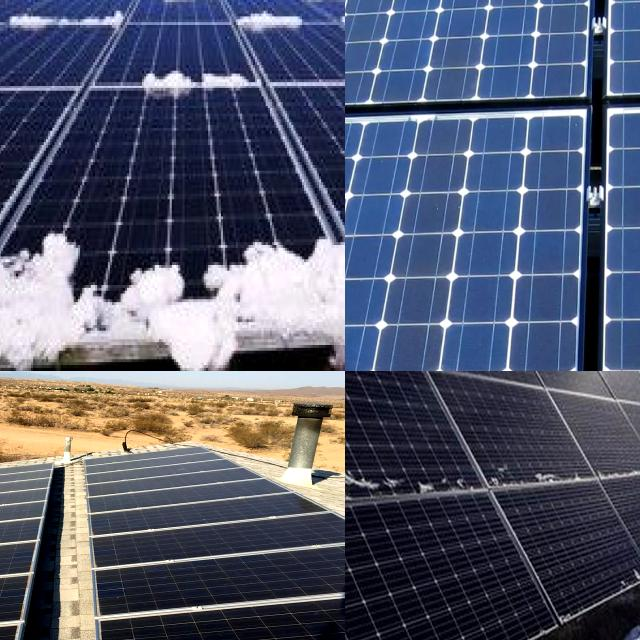crack: (345, 117, 581, 371)
dust: (149, 507, 293, 601), (0, 535, 62, 627), (142, 610, 276, 640)
panel: (131, 195, 345, 371), (0, 206, 116, 371), (135, 56, 254, 118), (345, 454, 472, 506), (0, 2, 128, 37), (235, 0, 326, 41), (487, 466, 597, 498), (124, 0, 263, 24), (0, 0, 116, 20), (148, 0, 228, 20), (605, 458, 640, 490), (0, 0, 27, 19), (0, 0, 11, 20)
